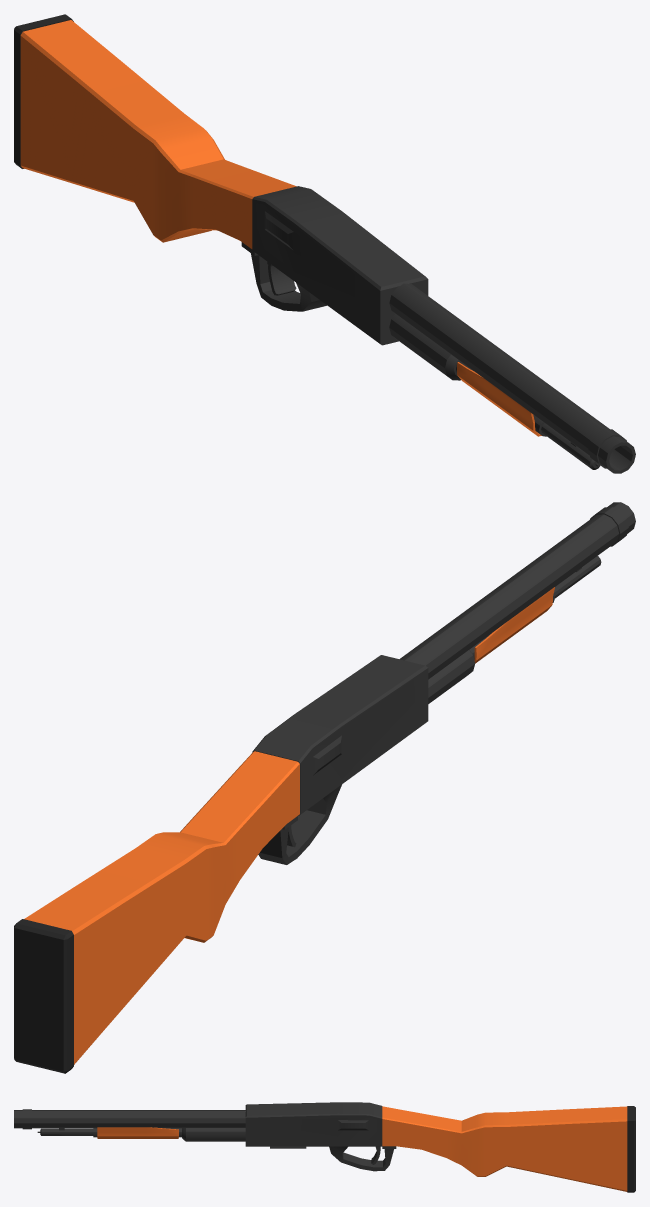
File: Recurs147.glb
The picture shows the model from 3 angles, top to bottom: view 1: azimuth 30°, elevation 25°; view 2: azimuth 150°, elevation 25°; view 3: azimuth 270°, elevation 25°; orthographic projection. The views are drawn at different scales.
Parts seen in each view (by area): view 1: Recurs147_Tris; view 2: Recurs147_Tris; view 3: Recurs147_Tris.
Part boxes in pixels (x1,y1,x2,y2): Recurs147_Tris: (14, 14, 635, 473); Recurs147_Tris: (14, 502, 635, 1073); Recurs147_Tris: (14, 1102, 635, 1192).
Bounding box in the file's own units: 0.073 × 0.1902 × 1.37.
